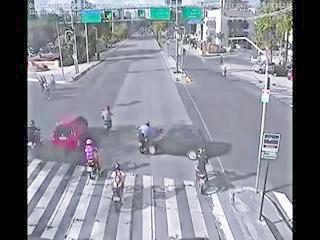Car: (148, 121, 210, 158), (51, 115, 88, 152), (253, 61, 275, 74)
Major Accident: (136, 119, 211, 160)
Motor: (110, 164, 125, 201), (84, 140, 100, 174), (195, 159, 209, 195), (136, 120, 150, 154), (101, 106, 113, 129), (28, 120, 40, 142), (50, 75, 56, 89)
